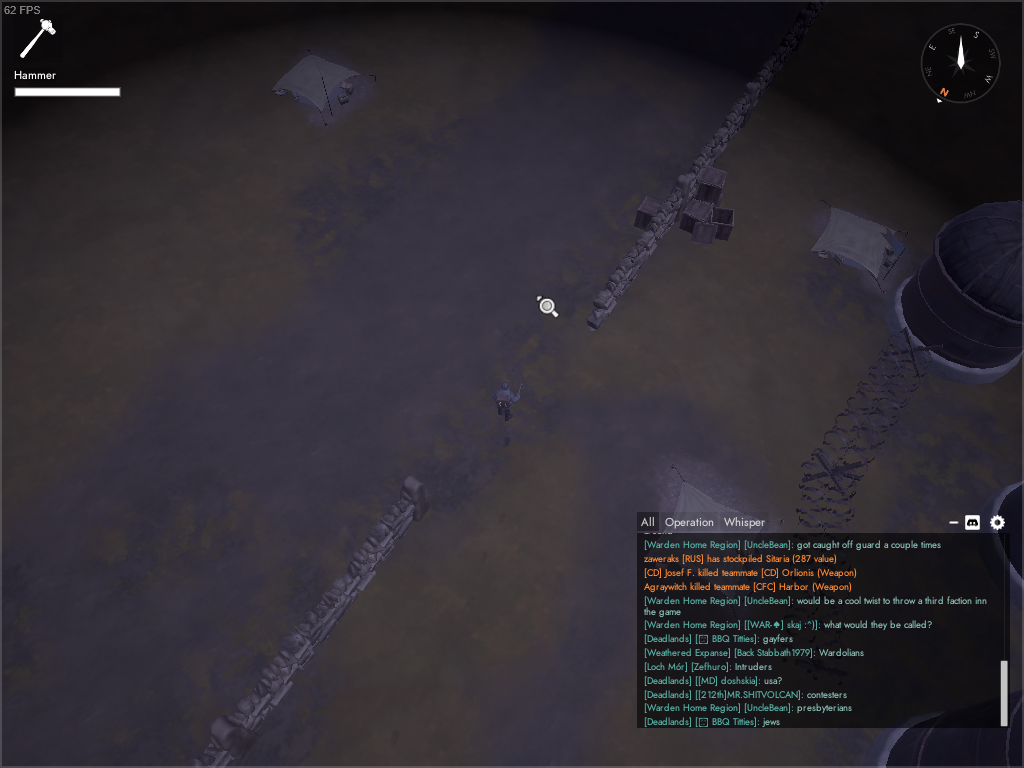foxhole: (631, 458, 783, 620), (798, 182, 918, 301), (260, 45, 383, 133)
player: (489, 378, 528, 424)
wire: (797, 322, 946, 486), (776, 448, 870, 665)
